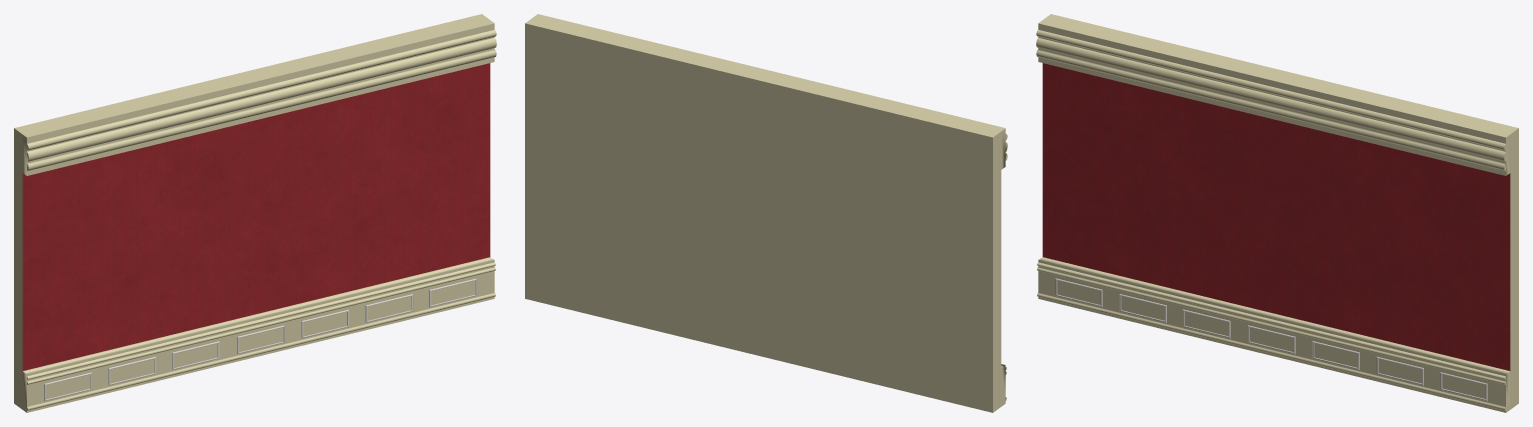
Rendered from wall1.fbx.
3 renders of one model, left to right at view 1: azimuth 30°, elevation 25°; view 2: azimuth 150°, elevation 25°; view 3: azimuth 330°, elevation 25°, orthographic.
Parts seen in each view (by area): view 1: wall3; view 2: wall3; view 3: wall3.
Boxes of the visible parts, x1,y1,x2,y2 form: wall3: (14, 14, 496, 412); wall3: (525, 14, 1007, 412); wall3: (1036, 14, 1518, 412).
Size of the model in its own units: 1600 by 900 by 88.42.
